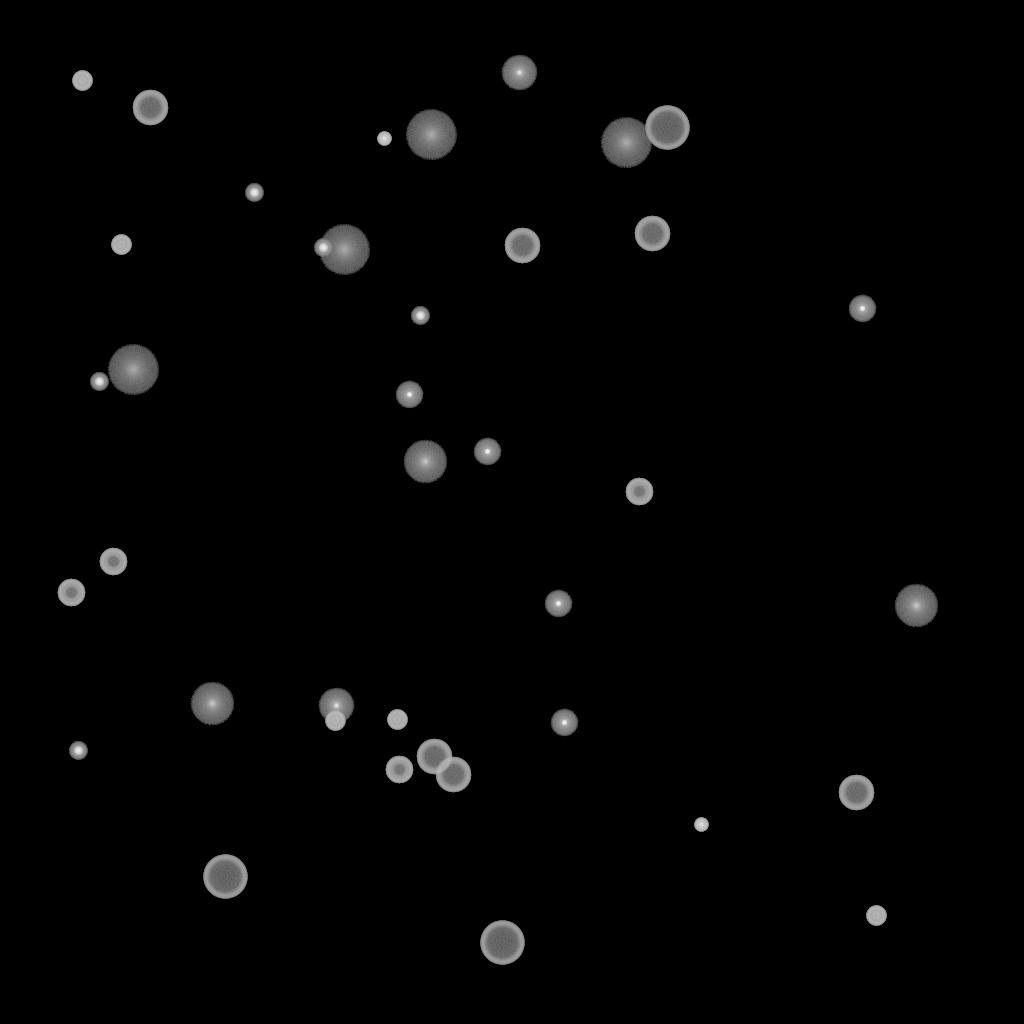depth:-10: (550, 709, 578, 737), (473, 438, 501, 466), (544, 590, 572, 618), (395, 381, 423, 409), (848, 295, 876, 323)
depth:-20: (314, 239, 332, 257), (90, 373, 108, 391), (245, 184, 263, 202), (69, 742, 87, 760), (411, 307, 429, 325)
depth:-30: (694, 818, 708, 832), (377, 132, 391, 146)
depth:-40: (866, 906, 886, 926), (387, 710, 407, 730), (111, 235, 131, 255), (325, 711, 345, 731), (72, 71, 92, 91)
depth:-50: (57, 579, 85, 607), (385, 756, 413, 784), (99, 548, 127, 576), (625, 478, 653, 506)
depth:-60: (504, 228, 540, 264), (435, 757, 471, 793), (132, 90, 168, 126), (634, 216, 670, 252), (838, 775, 874, 811), (416, 739, 452, 775)
depth:-70: (480, 921, 524, 965), (645, 106, 689, 150), (203, 855, 247, 899)
depth:0: (318, 688, 354, 724), (501, 55, 537, 91)
depth:10: (190, 682, 234, 726), (894, 584, 938, 628), (403, 440, 447, 484)
depth:20: (405, 110, 457, 160), (107, 345, 159, 395), (318, 225, 370, 275), (600, 118, 652, 168)
